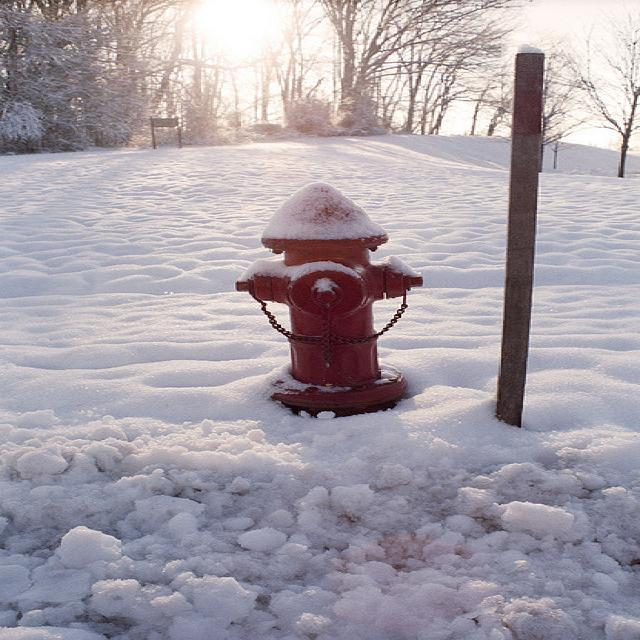fire_hydrant: (236, 181, 422, 418)
